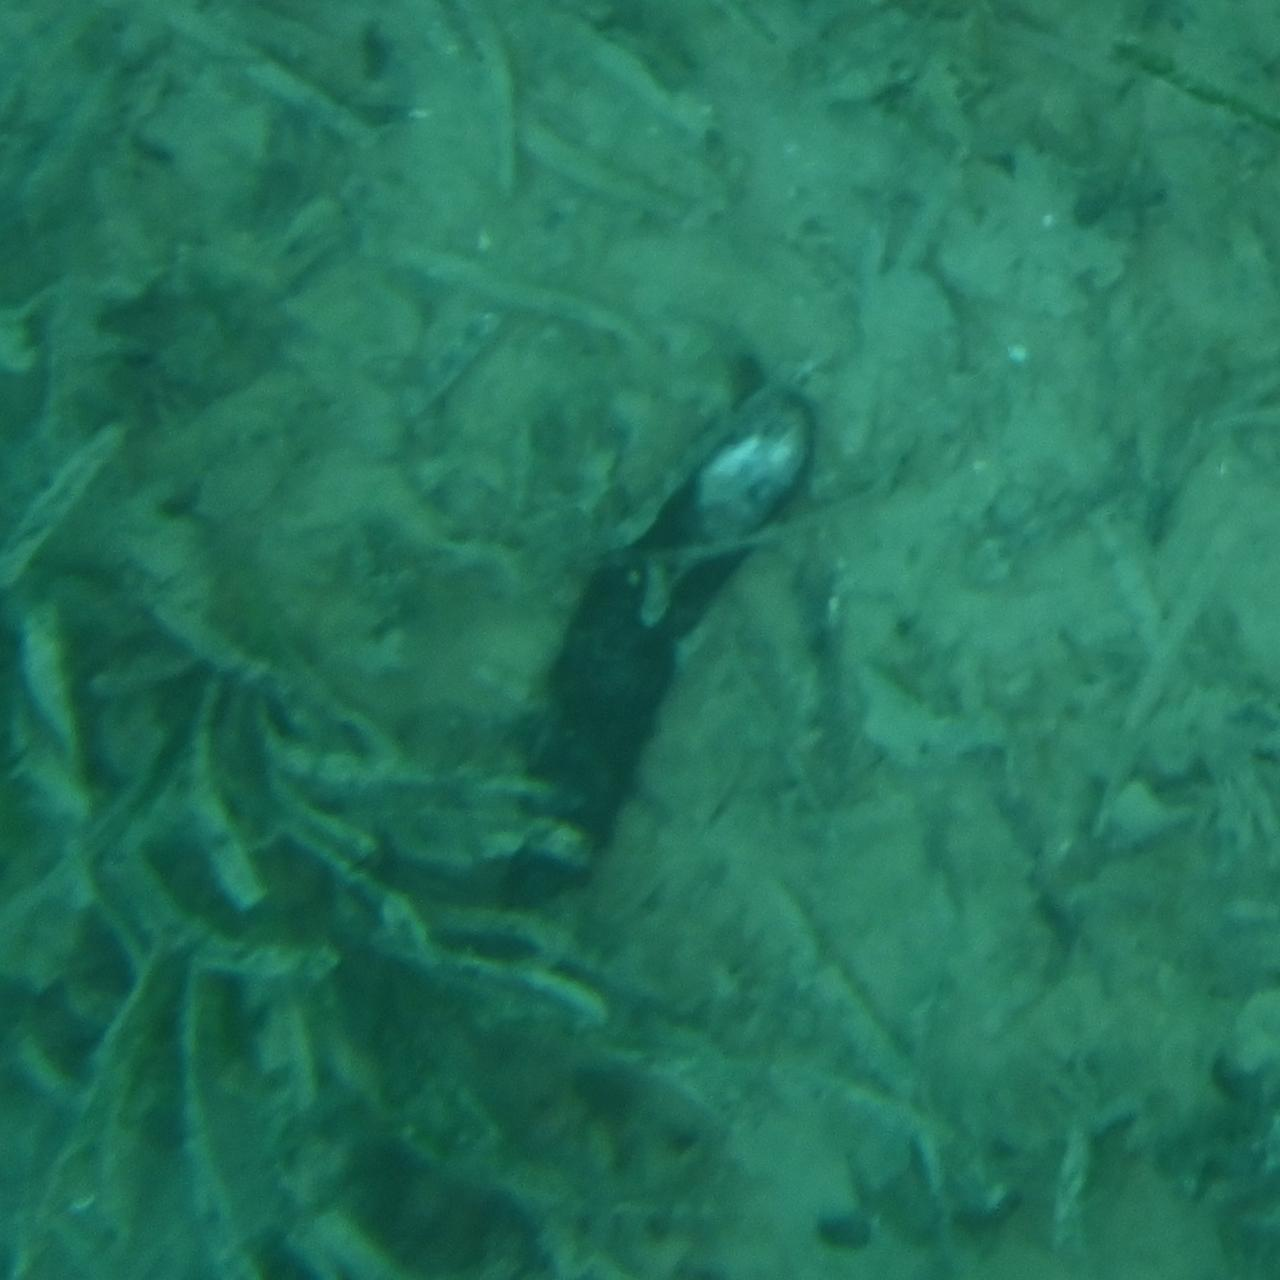Holothuria tubulosa: (477, 368, 803, 912)
